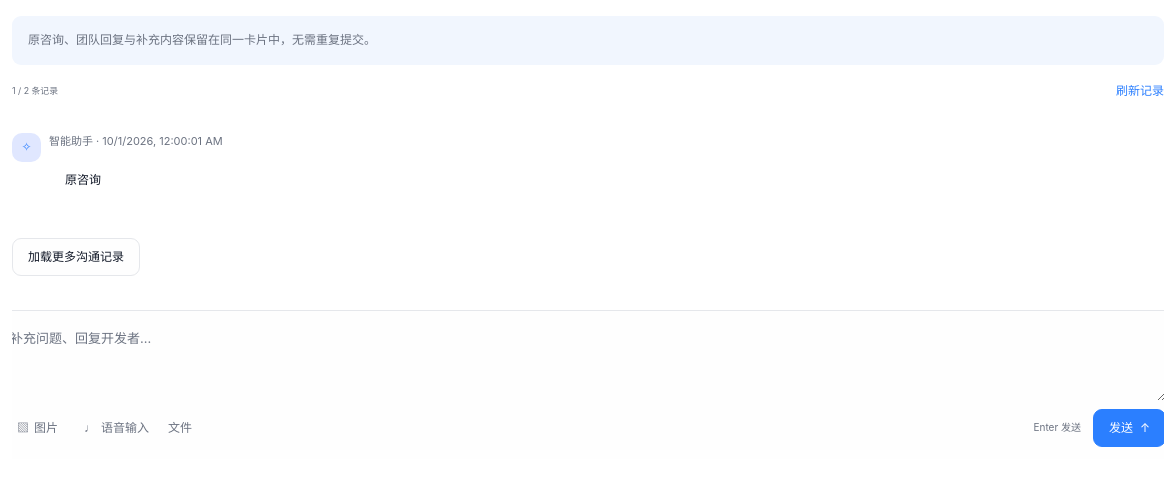
Test: complete feedback conversation › shows pre-submission Agent records and loads remaining history
Expected: the text "原咨询" is shown, left=65, top=172, right=101, bottom=187
Step 1. Click the button "加载更多沟通记录" → [76, 257], box left=12, top=238, right=140, bottom=276
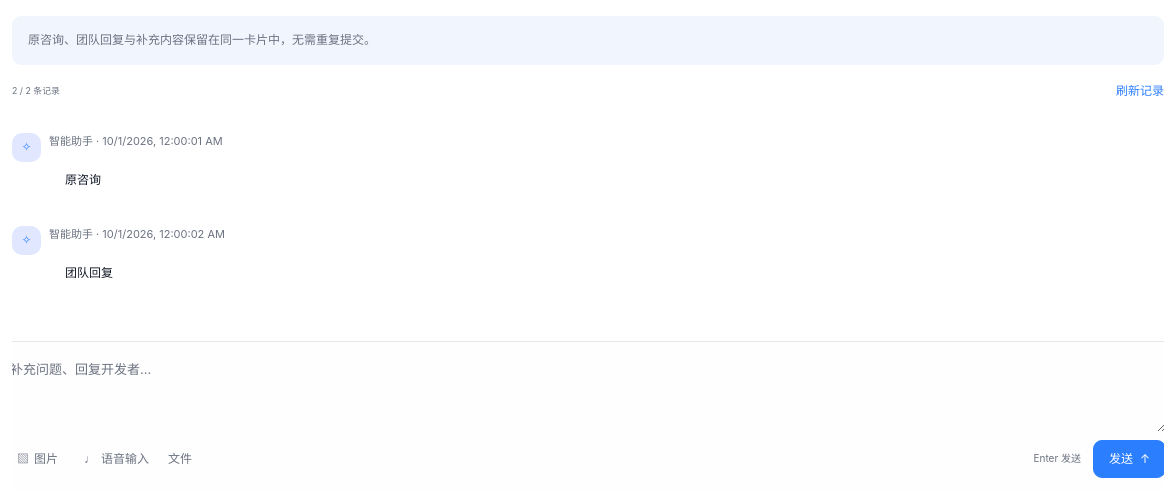
Expected: the text "团队回复" is shown, left=65, top=265, right=113, bottom=280
